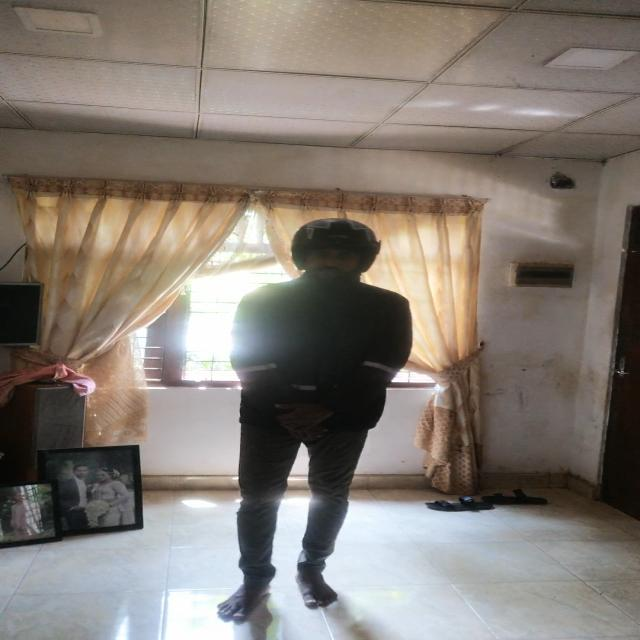Helmet_Wearer: (272, 215, 390, 299)
Jacket_Wearer: (232, 276, 414, 456)
Person: (224, 218, 412, 620)
